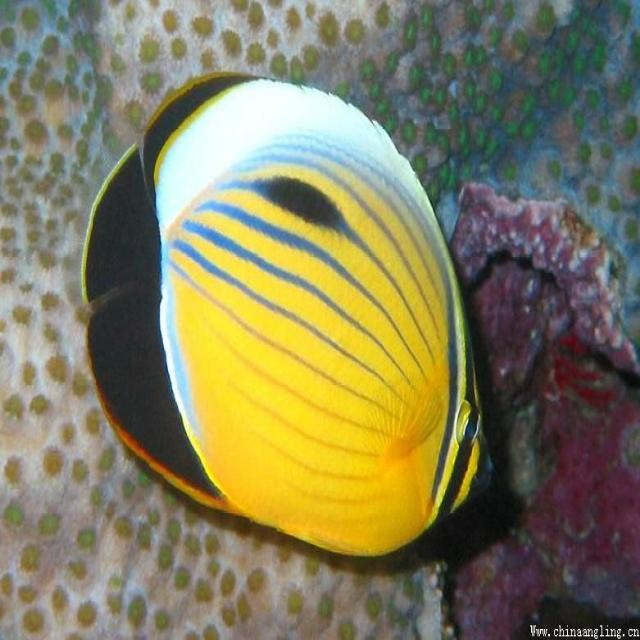ButterflyFish: (83, 72, 509, 569)
